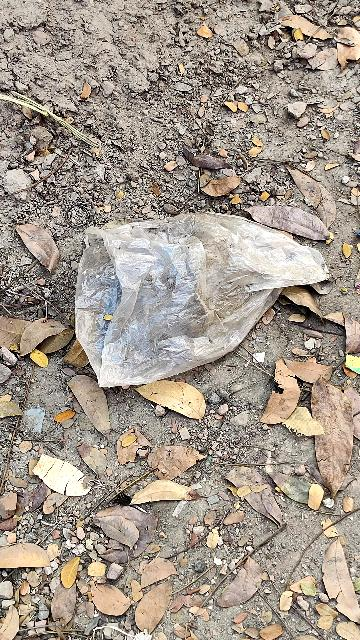polythene: (45, 177, 316, 404)
